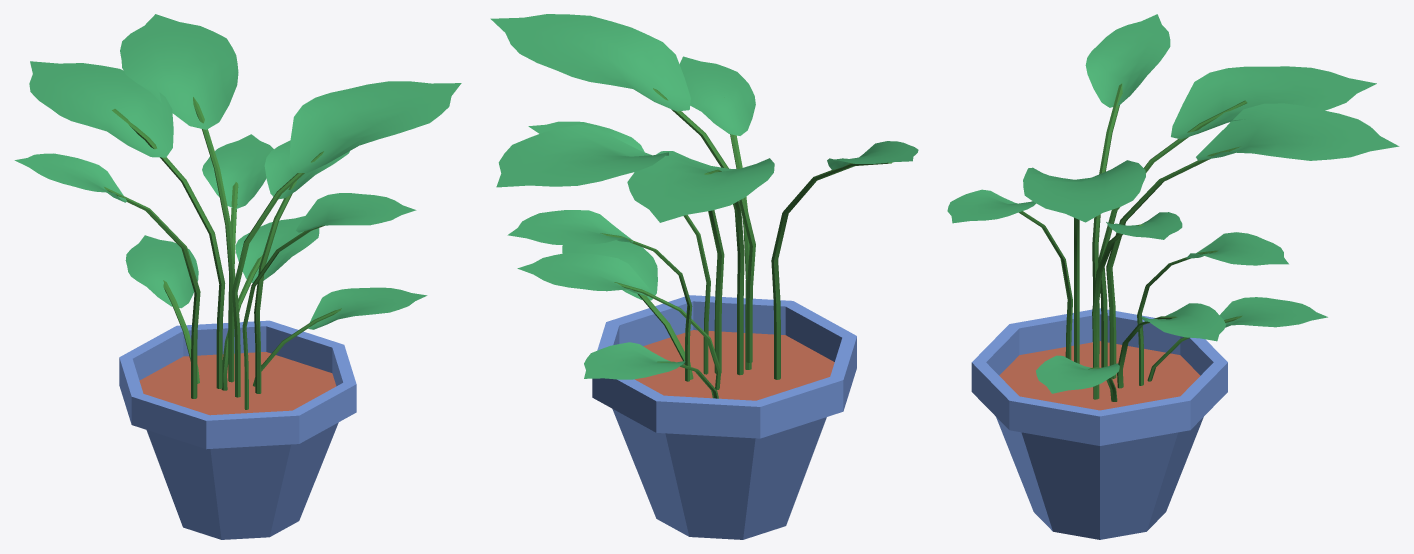
The model's file is Plant.fbx.
3 views of the same model, side by side, from view 1: azimuth 30°, elevation 25°; view 2: azimuth 150°, elevation 25°; view 3: azimuth 270°, elevation 25° (orthographic). The views are drawn at different scales.
Parts seen in each view (by area): view 1: pPlane12; view 2: pPlane12; view 3: pPlane12.
Part boxes in pixels (x1,y1,x2,y2): pPlane12: (14, 14, 461, 539); pPlane12: (490, 14, 918, 539); pPlane12: (947, 14, 1399, 539).
Size of the model in its own units: 7.52 by 6.66 by 6.83.
Materials: 1 (1 with a texture image).
